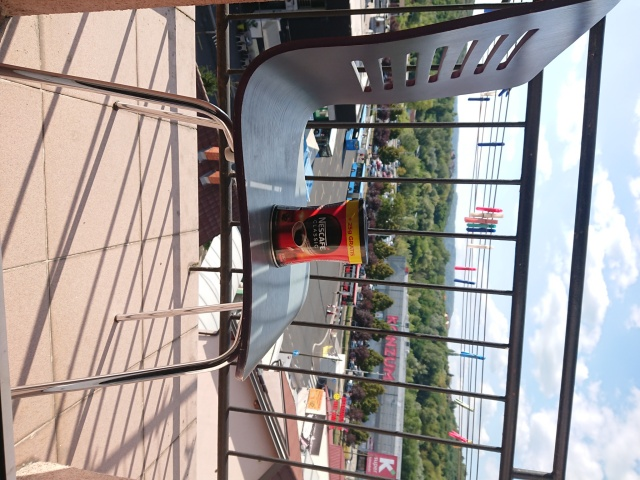Nescafe Classic 225g: (266, 196, 371, 269)
